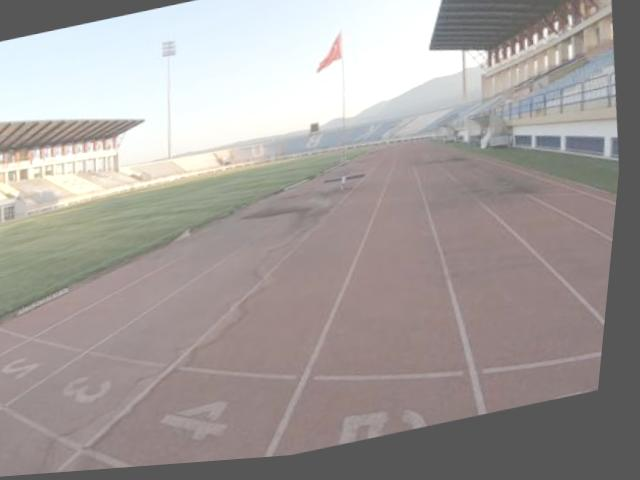uav: (322, 172, 374, 201)
